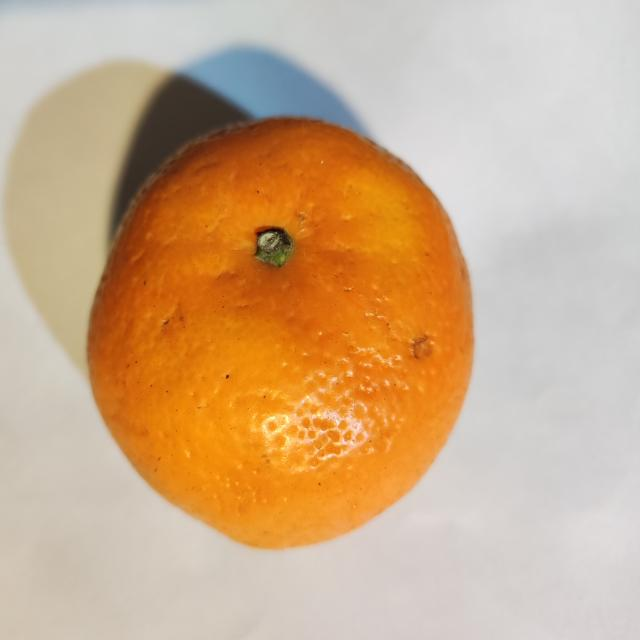orange: (89, 119, 473, 547)
